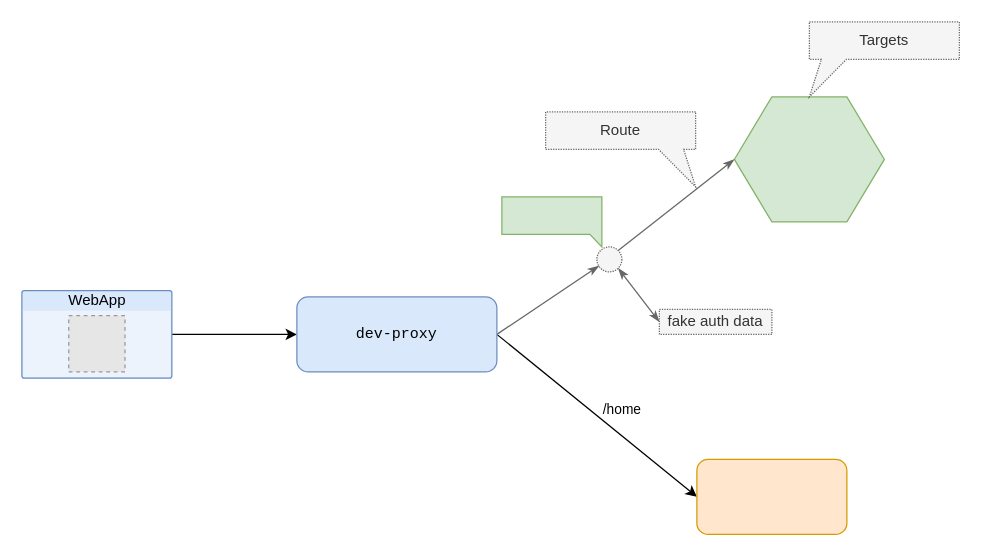
This 981x556 diagram has some shape labels left out. Grey dashed boxes stand in for pictures. The shapes that lost their labels are listed below. From the top down, each one's centre as x and y in pixels, then its label:
At pixel 808 159: "Microservice 1".
At pixel 551 221: "Transformer".
At pixel 771 496: "Frontend".
